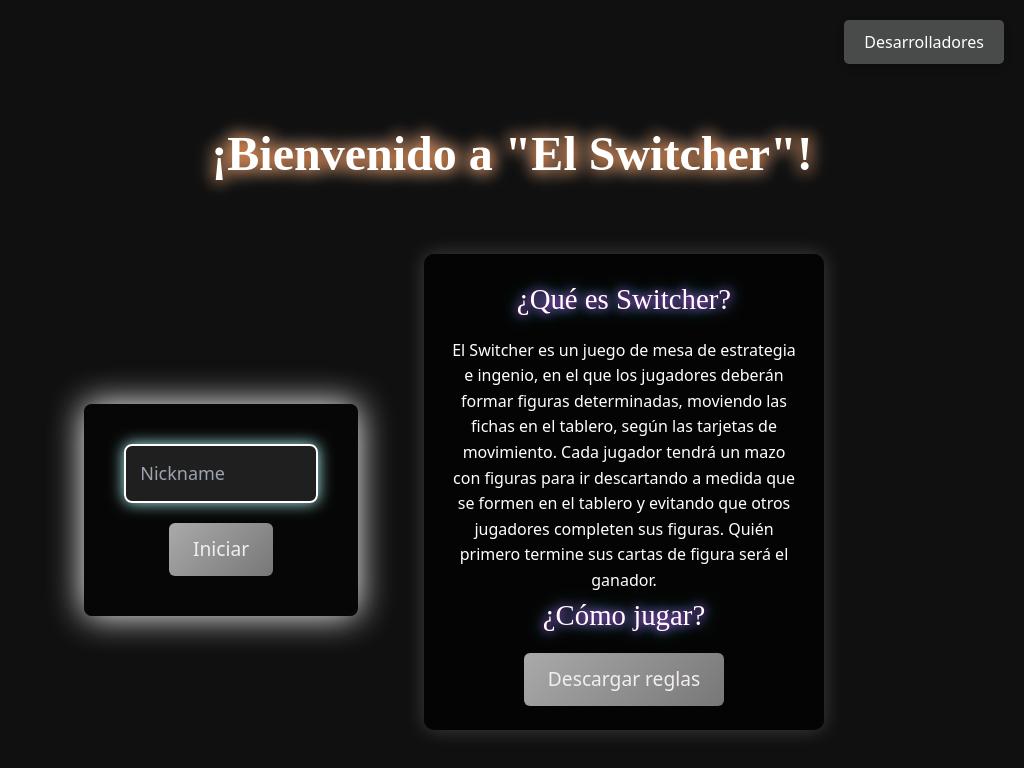
Test case: Login Component › Muestra un mensaje de error si no se ingreso un nickname
Click the button "Iniciar" at (221, 550), box [169,523,273,576]
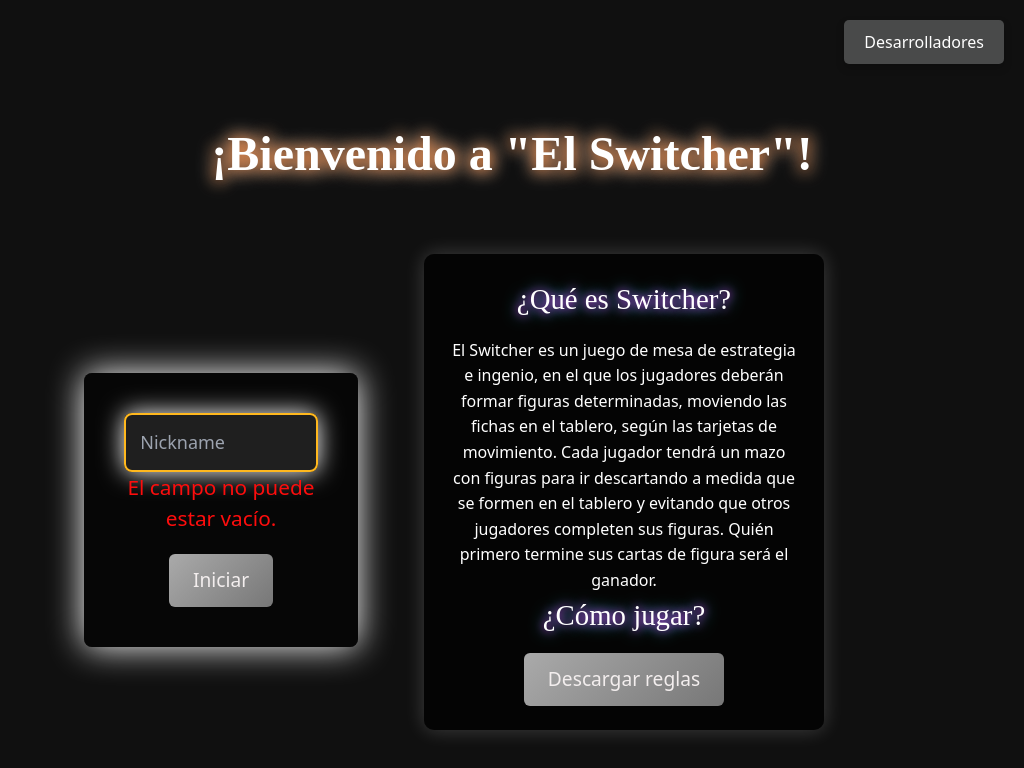
expect the text "El campo no puede estar vacío." is shown: met, box [128,473,314,532]
